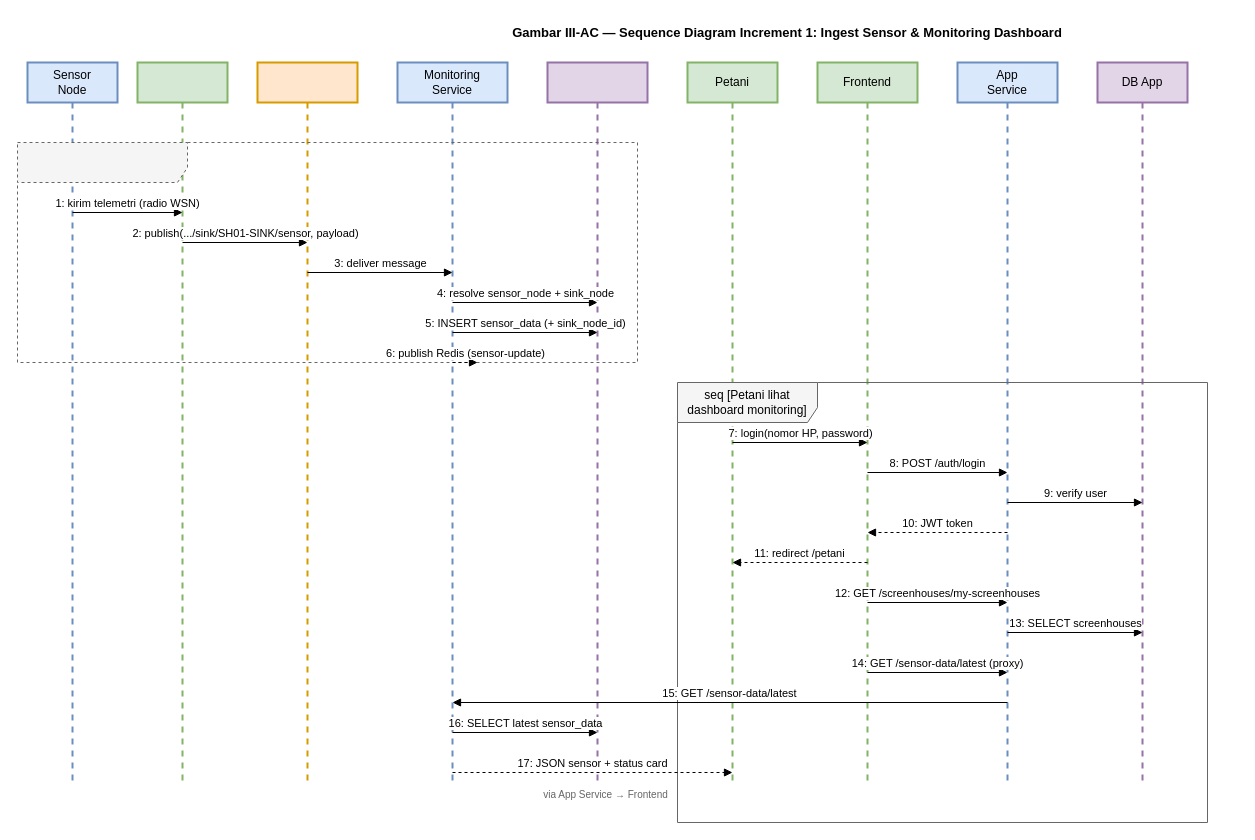
Image size: 1255x840. Some labels were removed from this diagram. Here are the shapes that lost their labels. From the top down, the box of each, then its label:
(16, 142, 638, 362): alt [Ingest data sensor — background]
(136, 61, 228, 783): Sink Node
(256, 61, 358, 783): MQTT Broker
(546, 61, 648, 783): DB Monitoring
